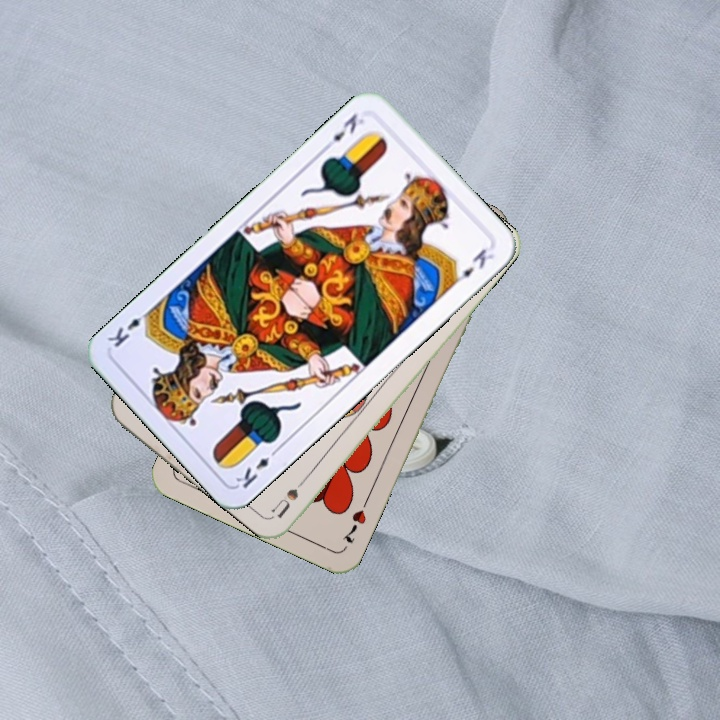EK: (231, 443, 282, 491), (319, 109, 367, 153)
H7: (338, 494, 371, 546)
SU: (269, 468, 314, 521)
